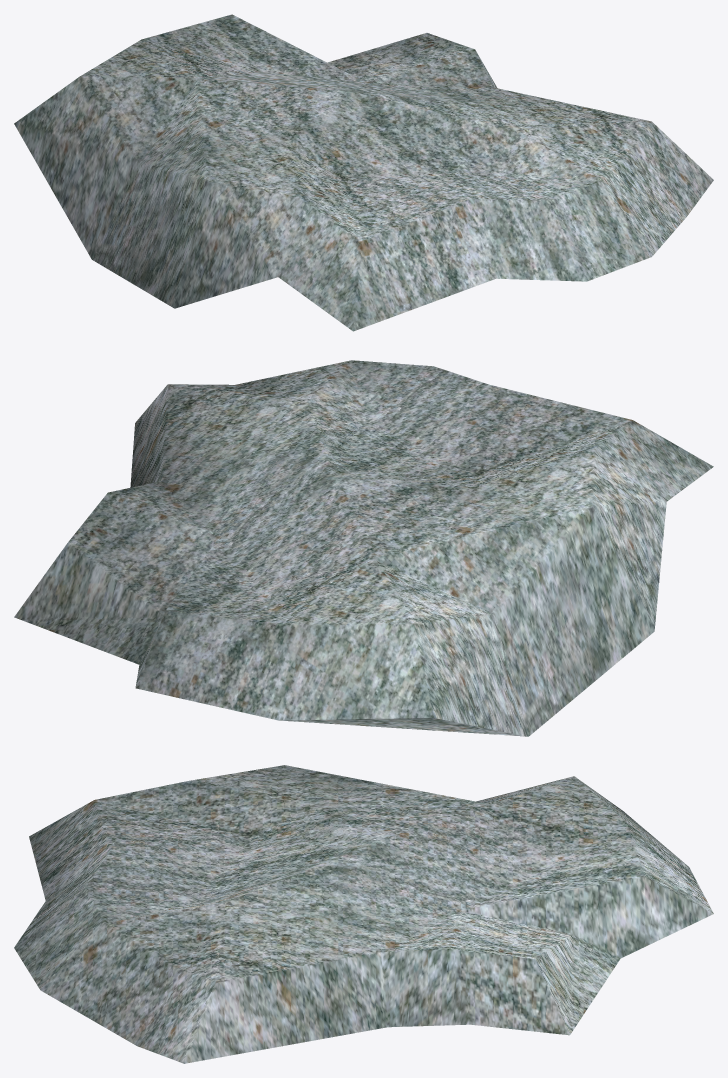
File: rock_graniteslab_medium_l0.fbx
3 views of the same model, one above another, from view 1: azimuth 30°, elevation 25°; view 2: azimuth 150°, elevation 25°; view 3: azimuth 270°, elevation 25° (orthographic). The views are drawn at different scales.
Visible parts, largest first — view 1: mesh_node; view 2: mesh_node; view 3: mesh_node.
Part boxes in pixels (x1=…): mesh_node: x1=14, y1=14, x2=713, y2=331; mesh_node: x1=14, y1=360, x2=713, y2=736; mesh_node: x1=14, y1=765, x2=713, y2=1063.
Size of the model in its own units: 1.78 by 0.4976 by 2.14.
